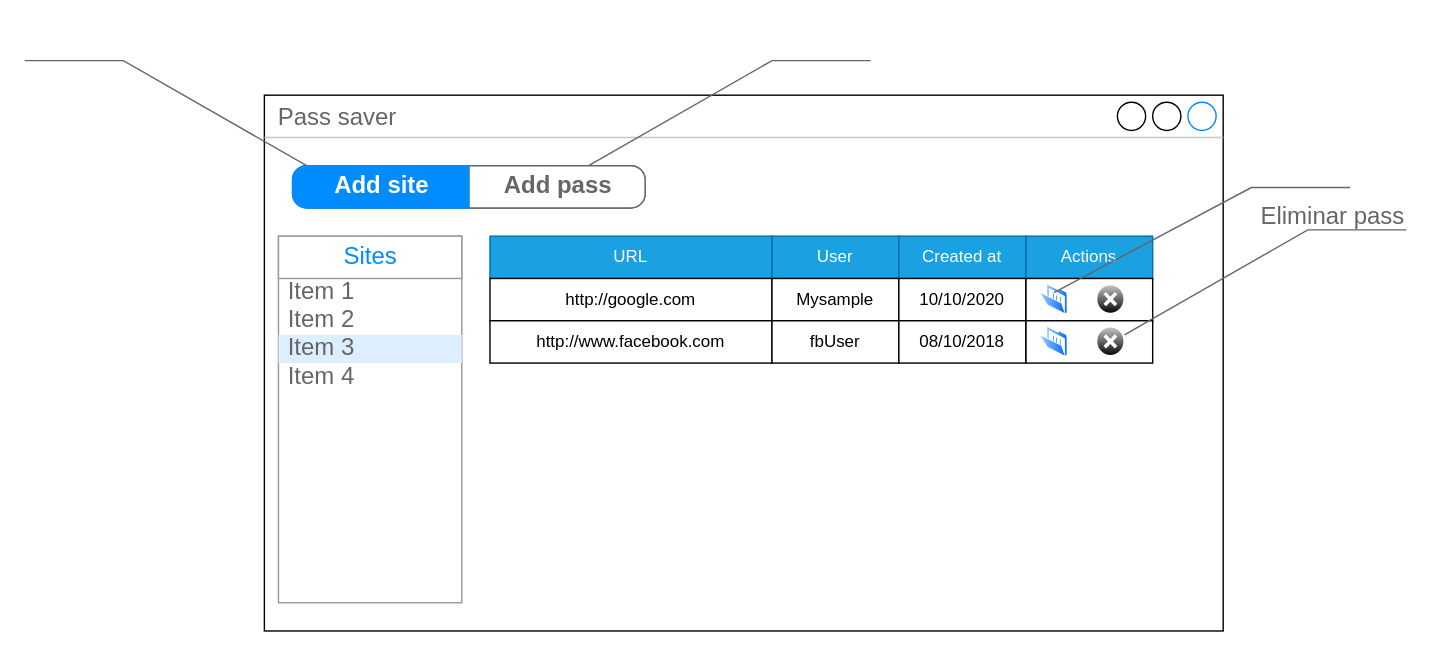
This 1431x656 diagram has some shape labels left out. Each missing label, with the box of its shape:
Abrir URL(en otra Tab): (1053, 150, 1350, 293)
Añade un site: (23, 23, 307, 166)
Añade una pass al site seleccionado: (587, 23, 871, 166)
